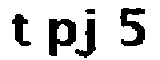5: (116, 5, 148, 52)
j: (77, 6, 98, 58)
p: (44, 15, 77, 59)
t: (10, 10, 32, 49)
